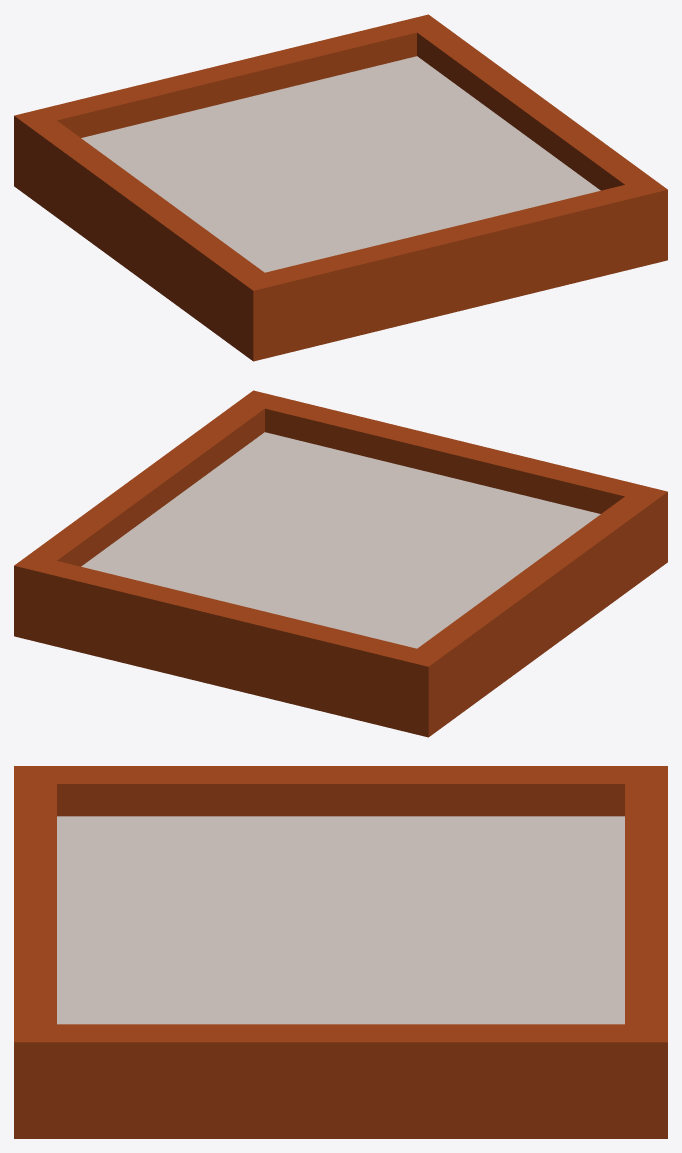
File: pano.fbx
3 views of the same model, one above another, from view 1: azimuth 30°, elevation 25°; view 2: azimuth 150°, elevation 25°; view 3: azimuth 270°, elevation 25° (orthographic). The views are drawn at different scales.
Parts seen in each view (by area): view 1: mesh; view 2: mesh; view 3: mesh.
Boxes of the visible parts, left/top/right/bottom form: mesh: left=14, top=14, right=667, bottom=361; mesh: left=14, top=390, right=667, bottom=737; mesh: left=14, top=766, right=667, bottom=1138.
Bounding box in the file's own units: 115 × 18.75 × 115.
1 material, 1 textured.
